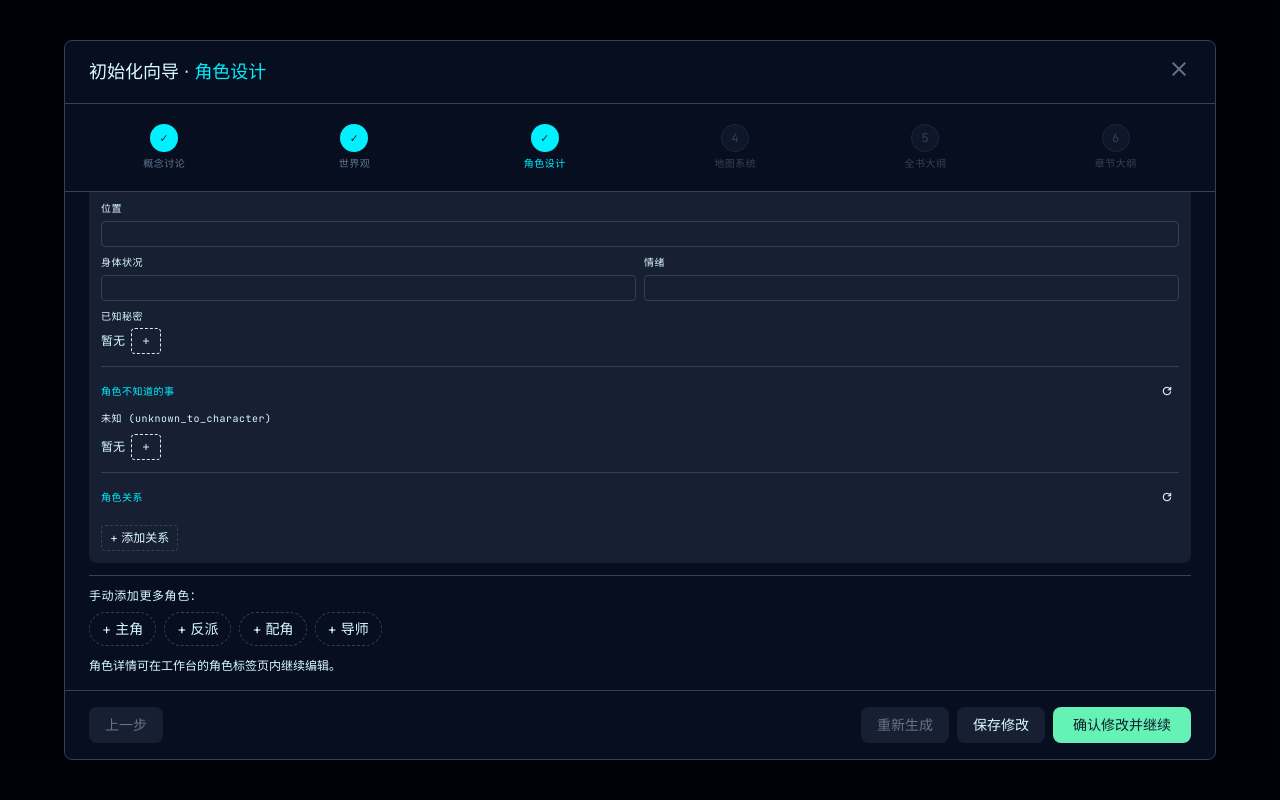
Test case: CharacterStep › manual add takes only the new character from a cumulative response
The image size is (1280, 800).
(page scrolled)
What coordinates should you click on to do the following:
click the button with test id "character-add-supporting"
I would click on:
 (273, 629)
Its box is [239,612,307,646].
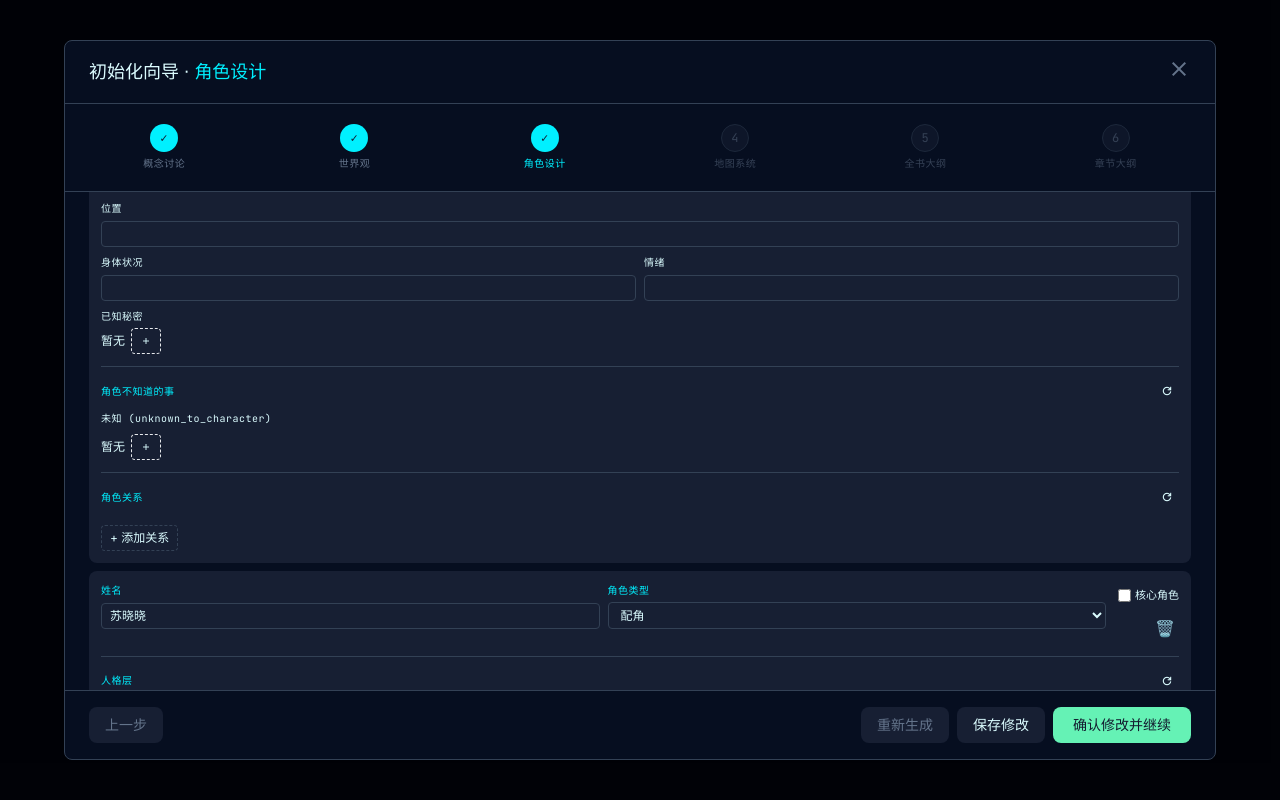
Now the field with test id "character-c7-name" holds "苏晓晓", box [101,603,600,629]
